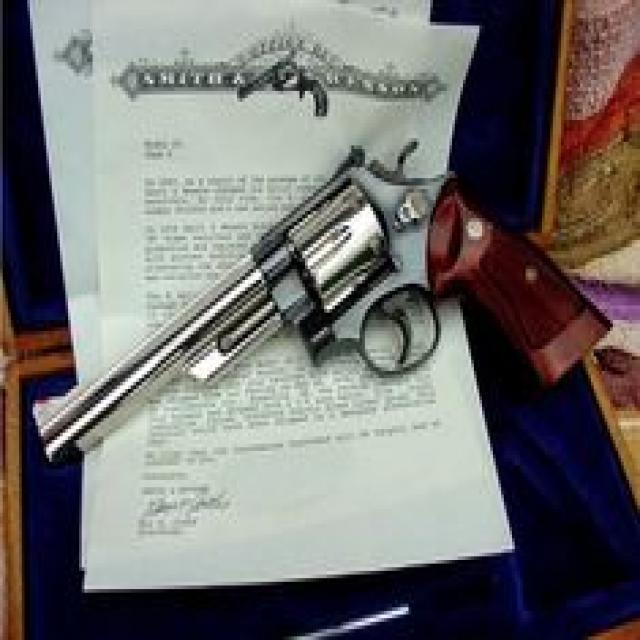revolver: (21, 135, 624, 477)
